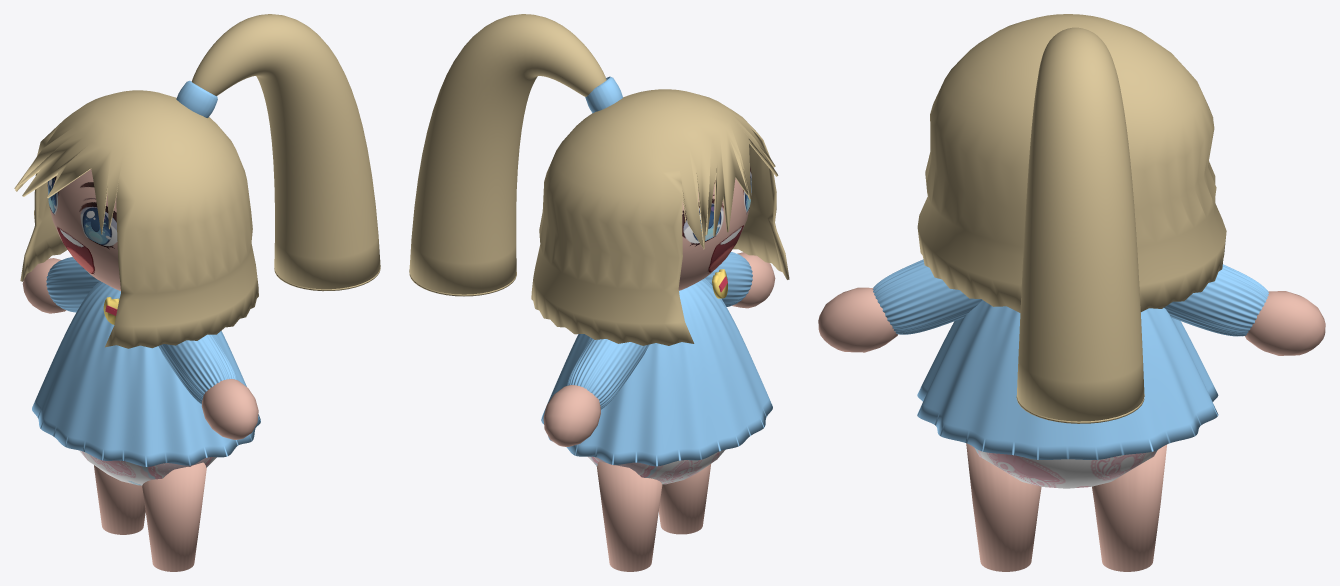
The model's file is middydiaperdoll.glb.
3 renders of one model, left to right at view 1: azimuth 30°, elevation 25°; view 2: azimuth 150°, elevation 25°; view 3: azimuth 270°, elevation 25°, orthographic. The views are drawn at different scales.
Parts seen in each view (by area): view 1: head.006, BezierCurve, head.003, head.004, head.001, head, head.005; view 2: head.006, BezierCurve, head.003, head.004, head.001, head, head.005; view 3: head.006, BezierCurve, head.003, head.004, head.
Boxes of the visible parts, x1,y1,x2,y2 form: head.006: (14, 90, 258, 348); BezierCurve: (191, 14, 380, 291); head.003: (32, 257, 260, 466); head.004: (22, 258, 258, 571); head.001: (47, 169, 120, 290); head: (79, 450, 216, 485); head.005: (176, 80, 217, 117); head.006: (531, 89, 789, 345); BezierCurve: (409, 14, 606, 296); head.003: (541, 252, 772, 466); head.004: (543, 252, 775, 571); head.001: (678, 167, 751, 290); head: (588, 449, 725, 484); head.005: (585, 76, 622, 113); head.006: (917, 14, 1226, 312); BezierCurve: (1016, 27, 1144, 423); head.003: (872, 259, 1268, 459); head.004: (818, 287, 1325, 571); head: (974, 447, 1157, 488).
Bounding box in the file's own units: 4.29 × 6.13 × 4.75.
7 materials, 2 textured.
